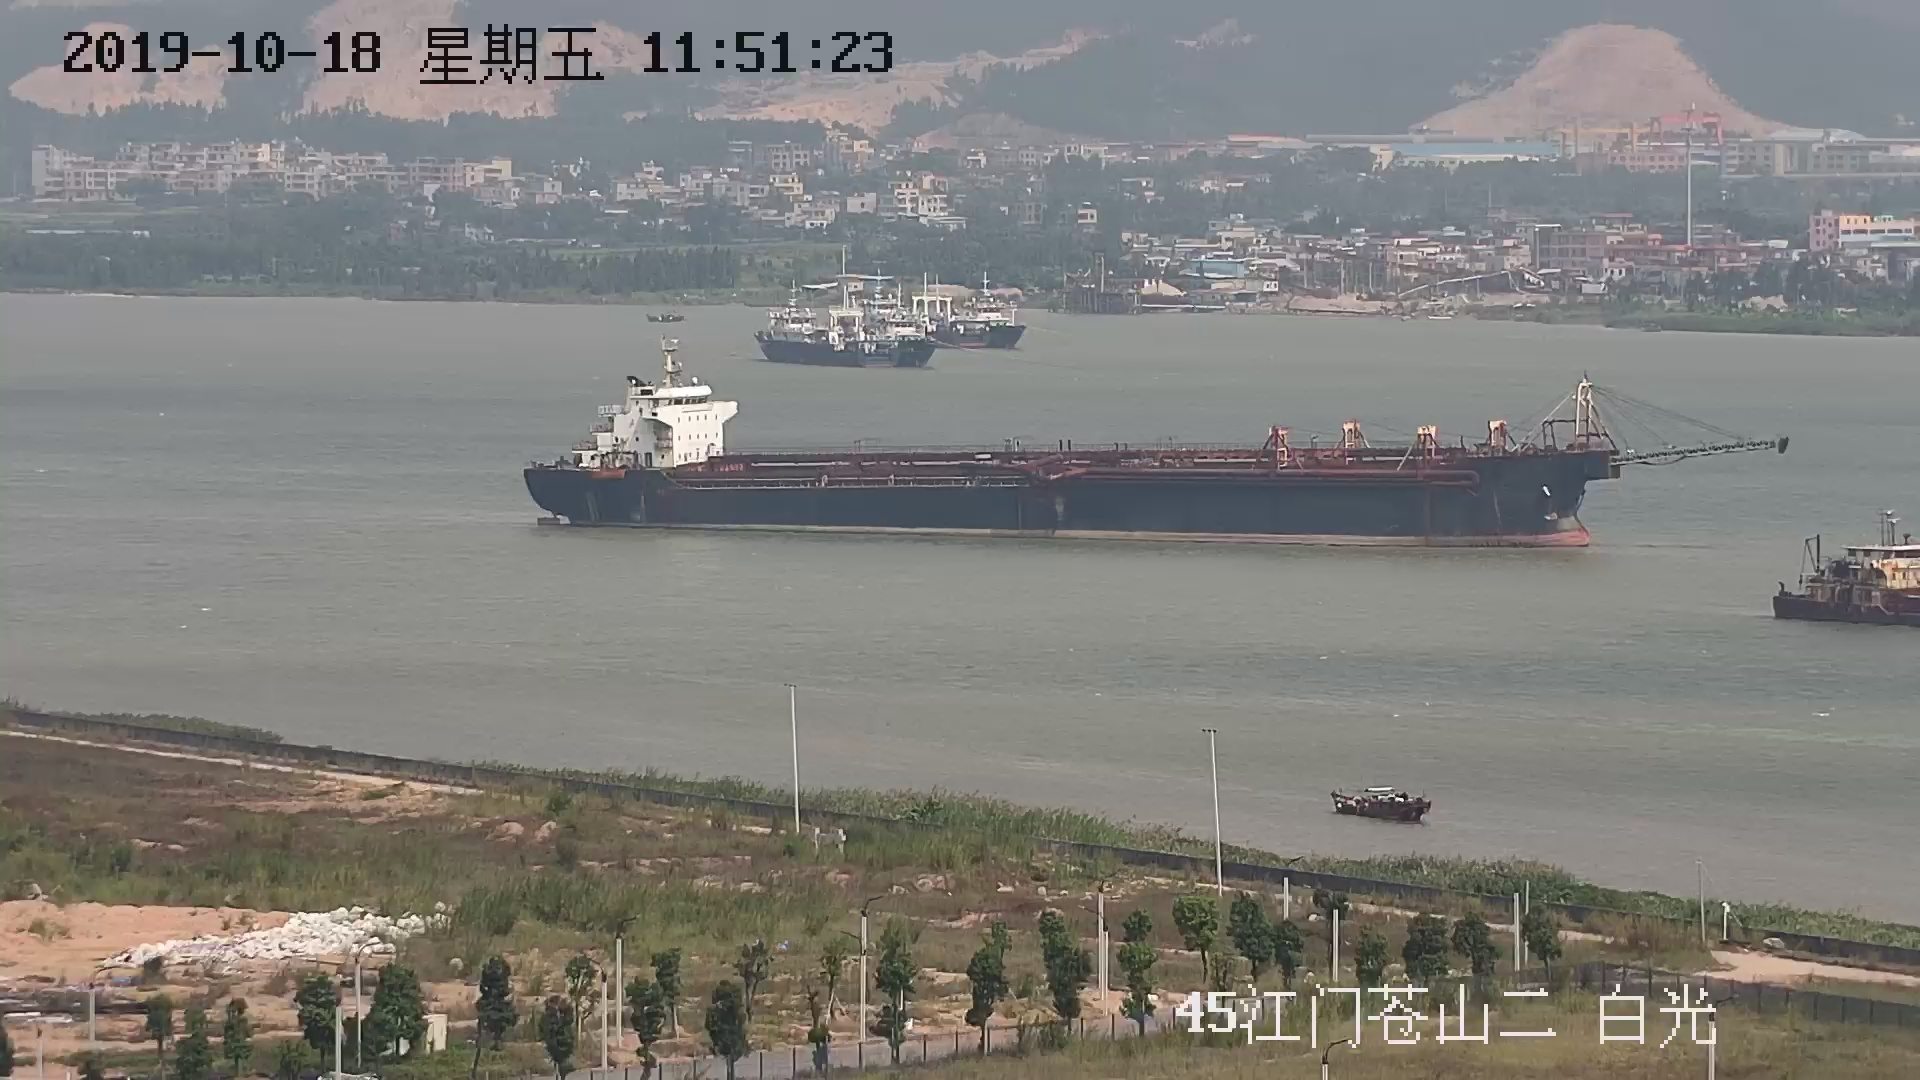ship: (534, 306, 1779, 556), (1771, 516, 1920, 632), (1331, 786, 1432, 825)
